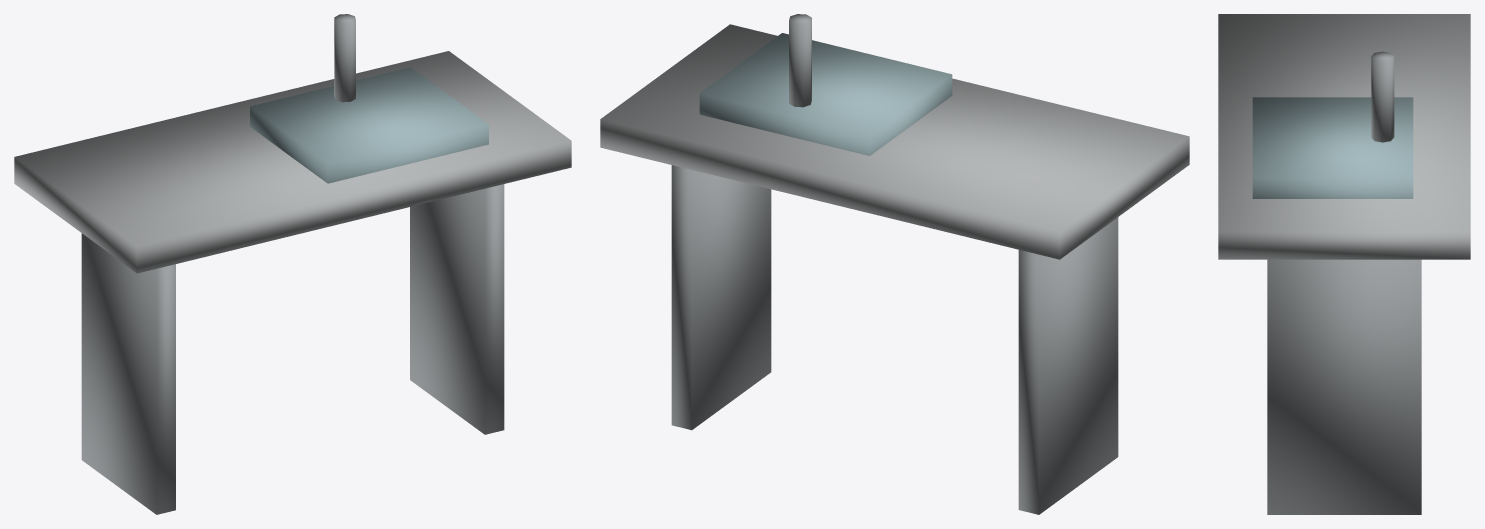
The model's file is lab_sink_bench.glb.
3 views of the same model, side by side, from view 1: azimuth 30°, elevation 25°; view 2: azimuth 150°, elevation 25°; view 3: azimuth 270°, elevation 25° (orthographic). The views are drawn at different scales.
Parts seen in each view (by area): view 1: world; view 2: world; view 3: world.
Part boxes in pixels (x1,y1,x2,y2): world: (14, 14, 571, 514); world: (600, 14, 1189, 514); world: (1218, 14, 1470, 514).
Size of the model in its own units: 1.35 by 1.17 by 0.66.
